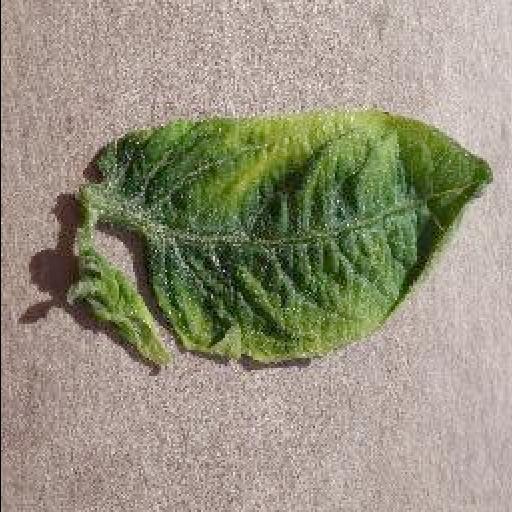disease_tomato: (89, 106, 495, 366)
